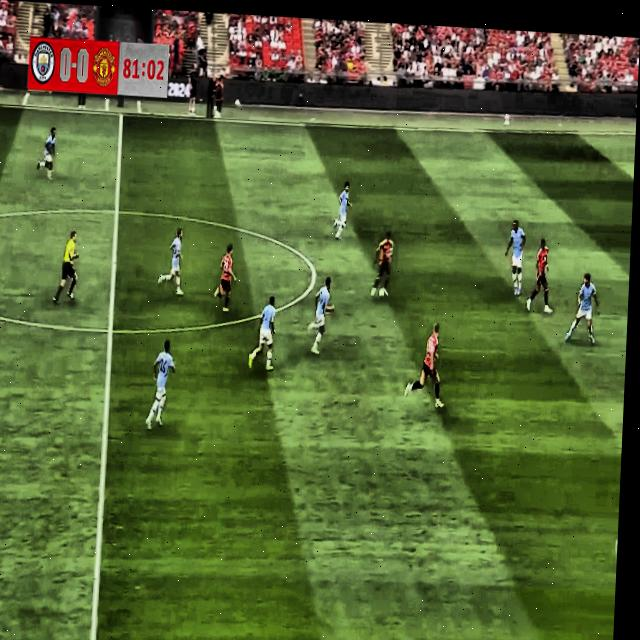ball: (376, 285, 388, 304)
players: (140, 330, 185, 442), (402, 320, 454, 409), (246, 281, 280, 380), (304, 272, 340, 363), (209, 228, 241, 326), (155, 217, 190, 299), (328, 165, 360, 252), (523, 239, 557, 318), (503, 211, 531, 302), (566, 268, 598, 346), (367, 227, 396, 303), (32, 115, 59, 187)
refree: (47, 225, 88, 319)
